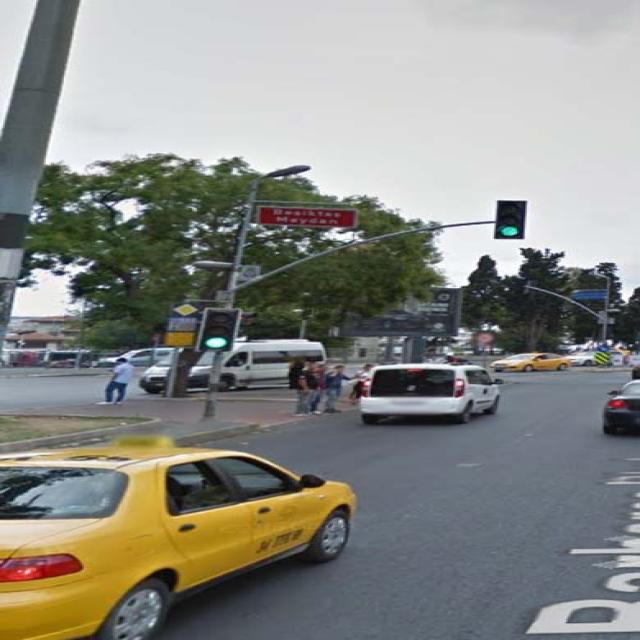yesil: (204, 307, 233, 353), (497, 200, 524, 238)
